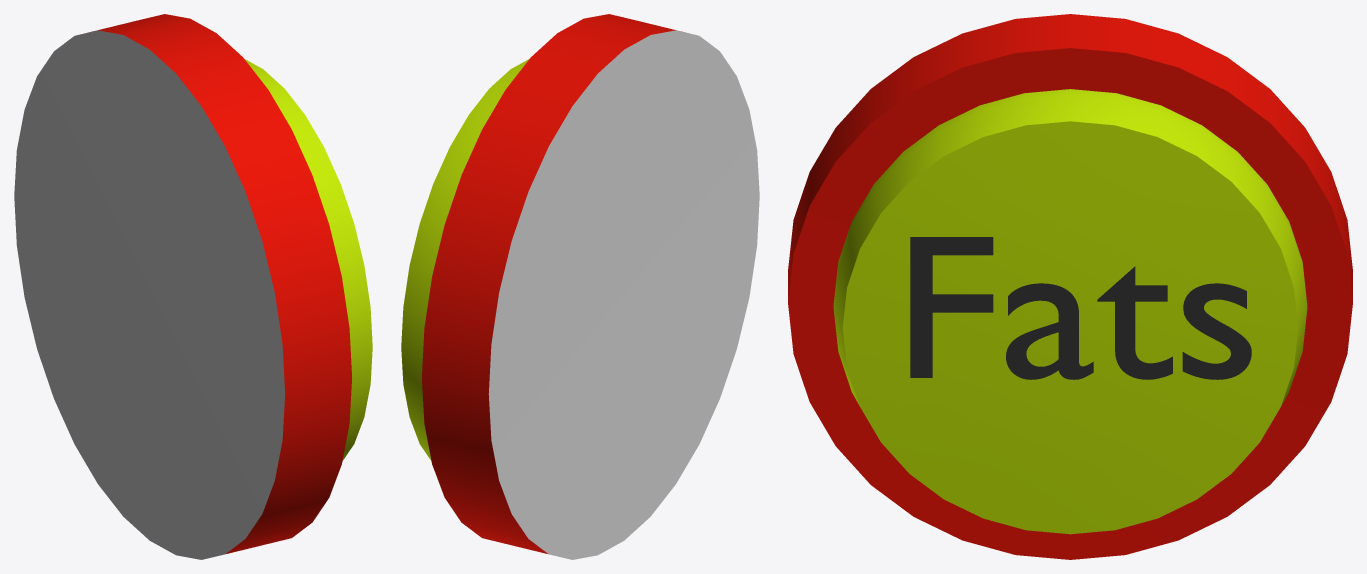
The model's file is fatty real.gltf.
3 renders of one model, left to right at view 1: azimuth 30°, elevation 25°; view 2: azimuth 150°, elevation 25°; view 3: azimuth 270°, elevation 25°, orthographic. The views are drawn at different scales.
Parts seen in each view (by area): view 1: Cylinder; view 2: Cylinder; view 3: Cylinder, Text.
Part boxes in pixels (<box>): Cylinder: <box>14,14,372,559</box>; Cylinder: <box>401,14,759,559</box>; Cylinder: <box>788,14,1352,559</box>; Text: <box>910,237,1251,379</box>.
Bounding box in the file's own units: 0.4189 × 1.63 × 1.63.
